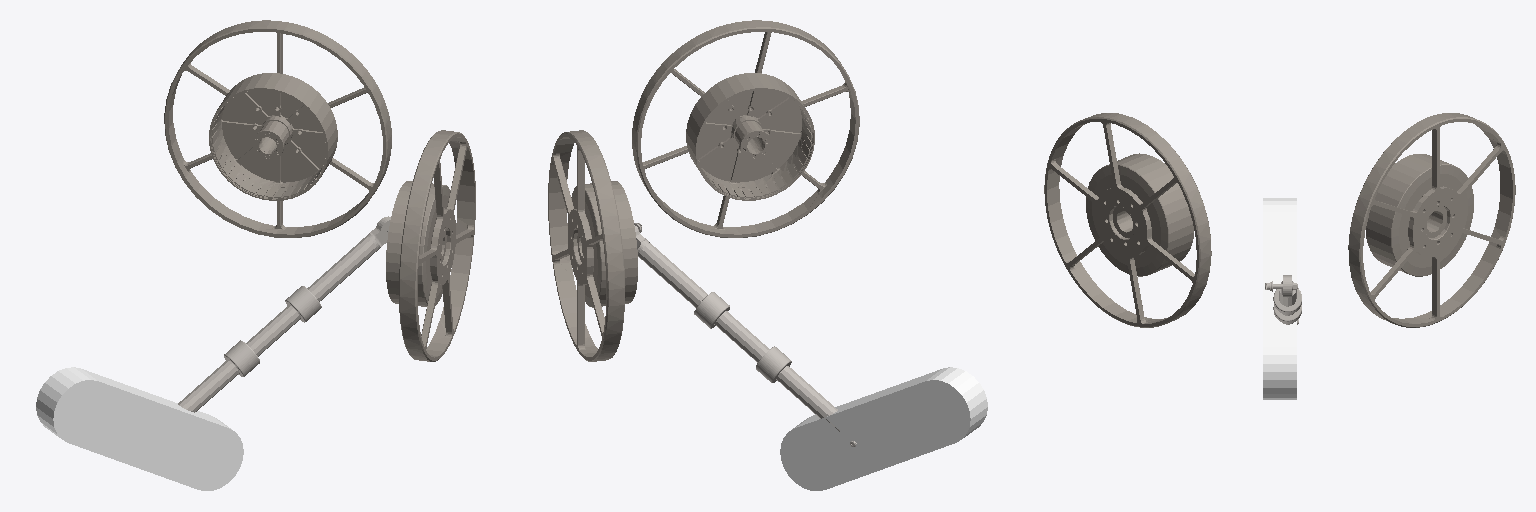
URDF robot description (hopper_rev06):
<?xml version="1.0" encoding="utf-8"?>
<!-- This URDF was automatically created by SolidWorks to URDF Exporter! Originally created by [author] ([email redacted]) 
     Commit Version: 1.5.1-0-g916b5db  Build Version: 1.5.7152.31018
     For more information, please see http://wiki.ros.org/sw_urdf_exporter -->
<robot
  name="hopper_rev06">
  <link
    name="base_link">
    <inertial>
      <origin
        xyz="-0.0110761344080843 0.000141268987797121 0.0155741743886181"
        rpy="0 0 0" />
      <mass
        value="3.68166624253178" />
      <inertia
        ixx="0.00330376802967453"
        ixy="-3.18123125258886E-06"
        ixz="5.28104083216726E-05"
        iyy="0.00557184018329421"
        iyz="8.35298935883454E-06"
        izz="0.00400805157934991" />
    </inertial>
    <visual>
      <origin
        xyz="0 0 0"
        rpy="0 0 0" />
      <geometry>
        <mesh
          filename="package://hopper_rev06/meshes/base_link.STL" />
      </geometry>
      <material
        name="">
        <color
          rgba="0.898039215686275 0.898039215686275 0.898039215686275 1" />
      </material>
    </visual>
    <collision>
      <origin
        xyz="0 0 0"
        rpy="0 0 0" />
      <geometry>
        <mesh
          filename="package://hopper_rev06/meshes/base_link.STL" />
      </geometry>
    </collision>
  </link>
  <link
    name="Link 0">
    <inertial>
      <origin
        xyz="0.0121851264299001 0.0180889013941822 0.0011269039274232"
        rpy="0 0 0" />
      <mass
        value="0.256385566504038" />
      <inertia
        ixx="3.84650100874954E-05"
        ixy="1.53797840600967E-05"
        ixz="-8.48318798628679E-06"
        iyy="0.000172633747470931"
        iyz="1.0826020137548E-06"
        izz="0.000148822440720503" />
    </inertial>
    <visual>
      <origin
        xyz="0 0 0"
        rpy="0 0 0" />
      <geometry>
        <mesh
          filename="package://hopper_rev06/meshes/Link 0.STL" />
      </geometry>
      <material
        name="">
        <color
          rgba="0.898039215686275 0.898039215686275 0.898039215686275 1" />
      </material>
    </visual>
    <collision>
      <origin
        xyz="0 0 0"
        rpy="0 0 0" />
      <geometry>
        <mesh
          filename="package://hopper_rev06/meshes/Link 0.STL" />
      </geometry>
    </collision>
  </link>
  <joint
    name="Joint 0"
    type="revolute">
    <origin
      xyz="0 0 0"
      rpy="0 0.5235987755983 0" />
    <parent
      link="base_link" />
    <child
      link="Link 0" />
    <axis
      xyz="0 -1 0" />
    <limit
      lower="-3.14"
      upper="3.14"
      effort="0"
      velocity="0" />
  </joint>
  <link
    name="Link 1">
    <inertial>
      <origin
        xyz="0.13310164596629 0.00652998365271666 -1.7740151708745E-09"
        rpy="0 0 0" />
      <mass
        value="0.0631473819780799" />
      <inertia
        ixx="2.55548531328704E-06"
        ixy="6.97718074651015E-12"
        ixz="-1.43600132880394E-12"
        iyy="0.000104301911822778"
        iyz="7.22908038202189E-12"
        izz="0.000104301119173832" />
    </inertial>
    <visual>
      <origin
        xyz="0 0 0"
        rpy="0 0 0" />
      <geometry>
        <mesh
          filename="package://hopper_rev06/meshes/Link 1.STL" />
      </geometry>
      <material
        name="">
        <color
          rgba="0.776470588235294 0.756862745098039 0.737254901960784 1" />
      </material>
    </visual>
    <collision>
      <origin
        xyz="0 0 0"
        rpy="0 0 0" />
      <geometry>
        <mesh
          filename="package://hopper_rev06/meshes/Link 1.STL" />
      </geometry>
    </collision>
  </link>
  <joint
    name="Joint 1"
    type="revolute">
    <origin
      xyz="0.1 0 0"
      rpy="3.14159265358979 1.0768315178335 3.14159265358979" />
    <parent
      link="Link 0" />
    <child
      link="Link 1" />
    <axis
      xyz="0 -1 0" />
    <limit
      lower="-0.7597"
      upper="1.8295"
      effort="0"
      velocity="0" />
  </joint>
  <link
    name="Link 2">
    <inertial>
      <origin
        xyz="0.0389032293637842 -0.0169313660252927 -0.00062714851995424"
        rpy="0 0 0" />
      <mass
        value="0.288845046277999" />
      <inertia
        ixx="3.4648830362342E-05"
        ixy="-3.25958928897899E-07"
        ixz="5.2492868552874E-06"
        iyy="0.000245584747760095"
        iyz="3.01080375570482E-08"
        izz="0.000226676363063251" />
    </inertial>
    <visual>
      <origin
        xyz="0 0 0"
        rpy="0 0 0" />
      <geometry>
        <mesh
          filename="package://hopper_rev06/meshes/Link 2.STL" />
      </geometry>
      <material
        name="">
        <color
          rgba="0.898039215686275 0.898039215686275 0.898039215686275 1" />
      </material>
    </visual>
    <collision>
      <origin
        xyz="0 0 0"
        rpy="0 0 0" />
      <geometry>
        <mesh
          filename="package://hopper_rev06/meshes/Link 2.STL" />
      </geometry>
    </collision>
  </link>
  <joint
    name="Joint 2"
    type="revolute">
    <origin
      xyz="0 0 0"
      rpy="3.14159265358979 0.553232742319403 3.14159265358979" />
    <parent
      link="base_link" />
    <child
      link="Link 2" />
    <axis
      xyz="0 -1 0" />
    <limit
      lower="-3.14"
      upper="3.14"
      effort="0"
      velocity="0" />
  </joint>
  <link
    name="Link 3">
    <inertial>
      <origin
        xyz="0.101438172775234 -0.00251001101899883 -0.0148532859416909"
        rpy="0 0 0" />
      <mass
        value="0.12485760438479" />
      <inertia
        ixx="1.60742534536502E-05"
        ixy="-5.5460647831407E-07"
        ixz="1.00368296290725E-06"
        iyy="0.000116506435004822"
        iyz="1.07130466352274E-07"
        izz="0.000112946753721548" />
    </inertial>
    <visual>
      <origin
        xyz="0 0 0"
        rpy="0 0 0" />
      <geometry>
        <mesh
          filename="package://hopper_rev06/meshes/Link 3.STL" />
      </geometry>
      <material
        name="">
        <color
          rgba="1 1 1 1" />
      </material>
    </visual>
    <collision>
      <origin
        xyz="0 0 0"
        rpy="0 0 0" />
      <geometry>
        <mesh
          filename="package://hopper_rev06/meshes/Link 3.STL" />
      </geometry>
    </collision>
  </link>
  <joint
    name="Joint 3"
    type="revolute">
    <origin
      xyz="0.270000000042219 0 0"
      rpy="-3.14159265358979 -1.07683151743819 3.14159265358979" />
    <parent
      link="Link 2" />
    <child
      link="Link 3" />
    <axis
      xyz="0 -1 0" />
    <limit
      lower="-1.8295"
      upper="0.7597"
      effort="0"
      velocity="0" />
  </joint>
  <link
    name="rw0">
    <inertial>
      <origin
        xyz="-0.0115568081135589 -9.81216601025903E-10 1.32006692903086E-09"
        rpy="0 0 0" />
      <mass
        value="0.699974398576598" />
      <inertia
        ixx="0.00353732834325705"
        ixy="1.36817467077943E-12"
        ixz="6.30157024109589E-12"
        iyy="0.00179178249288336"
        iyz="1.27547328167971E-11"
        izz="0.00179178236239305" />
    </inertial>
    <visual>
      <origin
        xyz="0 0 0"
        rpy="0 0 0" />
      <geometry>
        <mesh
          filename="package://hopper_rev06/meshes/rw0.STL" />
      </geometry>
      <material
        name="">
        <color
          rgba="0.647058823529412 0.619607843137255 0.588235294117647 1" />
      </material>
    </visual>
    <collision>
      <origin
        xyz="0 0 0"
        rpy="0 0 0" />
      <geometry>
        <mesh
          filename="package://hopper_rev06/meshes/rw0.STL" />
      </geometry>
    </collision>
  </link>
  <joint
    name="joint_rw0"
    type="continuous">
    <origin
      xyz="0.0579120453791777 -0.143152456608642 0"
      rpy="-2.90216934410662 0 -0.785398163397452" />
    <parent
      link="base_link" />
    <child
      link="rw0" />
    <axis
      xyz="-1 0 0" />
  </joint>
  <link
    name="rw1">
    <inertial>
      <origin
        xyz="-0.0115568081644951 9.71279542905101E-10 -1.34360475017036E-09"
        rpy="0 0 0" />
      <mass
        value="0.699974399693299" />
      <inertia
        ixx="0.00353732834248013"
        ixy="-1.3591776901016E-12"
        ixz="-6.26886483316682E-12"
        iyy="0.00179178249239798"
        iyz="1.22342612211276E-11"
        izz="0.00179178236210302" />
    </inertial>
    <visual>
      <origin
        xyz="0 0 0"
        rpy="0 0 0" />
      <geometry>
        <mesh
          filename="package://hopper_rev06/meshes/rw1.STL" />
      </geometry>
      <material
        name="">
        <color
          rgba="0.647058823529412 0.619607843137255 0.588235294117647 1" />
      </material>
    </visual>
    <collision>
      <origin
        xyz="0 0 0"
        rpy="0 0 0" />
      <geometry>
        <mesh
          filename="package://hopper_rev06/meshes/rw1.STL" />
      </geometry>
    </collision>
  </link>
  <joint
    name="joint_rw1"
    type="continuous">
    <origin
      xyz="0.057912045379178 0.143152456608639 0"
      rpy="0 0 0.785398163397453" />
    <parent
      link="base_link" />
    <child
      link="rw1" />
    <axis
      xyz="-1 0 0" />
  </joint>
  <link
    name="rwz">
    <inertial>
      <origin
        xyz="1.55914313404448E-09 -6.66199071602813E-10 -0.00894655323759558"
        rpy="0 0 0" />
      <mass
        value="0.3530441284474" />
      <inertia
        ixx="0.000387725157142702"
        ixy="-1.70165517509875E-09"
        ixz="-1.35909543087329E-12"
        iyy="0.000387725171196821"
        iyz="-1.97458261404528E-12"
        izz="0.000767231120591178" />
    </inertial>
    <visual>
      <origin
        xyz="0 0 0"
        rpy="0 0 0" />
      <geometry>
        <mesh
          filename="package://hopper_rev06/meshes/rwz.STL" />
      </geometry>
      <material
        name="">
        <color
          rgba="0.647058823529412 0.619607843137255 0.588235294117647 1" />
      </material>
    </visual>
    <collision>
      <origin
        xyz="0 0 0"
        rpy="0 0 0" />
      <geometry>
        <mesh
          filename="package://hopper_rev06/meshes/rwz.STL" />
      </geometry>
    </collision>
  </link>
  <joint
    name="joint_rwz"
    type="continuous">
    <origin
      xyz="-0.076 0 0.0835000000000001"
      rpy="0 0 -2.75036855597829" />
    <parent
      link="base_link" />
    <child
      link="rwz" />
    <axis
      xyz="0 0 -1" />
  </joint>
</robot>

--- Render facts (derived) ---
3 views of the same robot in one strip: view 1: azimuth 30°, elevation 25°; view 2: azimuth 150°, elevation 25°; view 3: azimuth 270°, elevation 25° (orthographic).
Robot: hopper_rev06 — 8 links, 7 joints (4 revolute, 3 continuous); root link base_link; default pose: every joint at zero.
Visible links, largest first — view 1: rw1, Link 3, rw0, Link 1; view 2: rw0, Link 3, rw1, Link 1; view 3: rw1, rw0, Link 3, Link 1.
Link boxes in pixels (x1,y1,x2,y2): rw1: (164,20,391,237); Link 3: (36,367,243,490); rw0: (386,130,475,361); Link 1: (178,216,390,412); rw0: (632,20,859,237); Link 3: (780,367,987,490); rw1: (548,130,637,361); Link 1: (634,223,856,446); rw1: (1348,113,1515,327); rw0: (1044,113,1211,327); Link 3: (1263,198,1296,399); Link 1: (1265,275,1301,324).
Bounding box of the posed robot: 0.3876 × 0.4262 × 0.3469 m (x, y, z).
4 mesh visuals loaded from 8 distinct referenced files (4 binary STL); not drawn: 4 (reference not matched to a file when rendering).